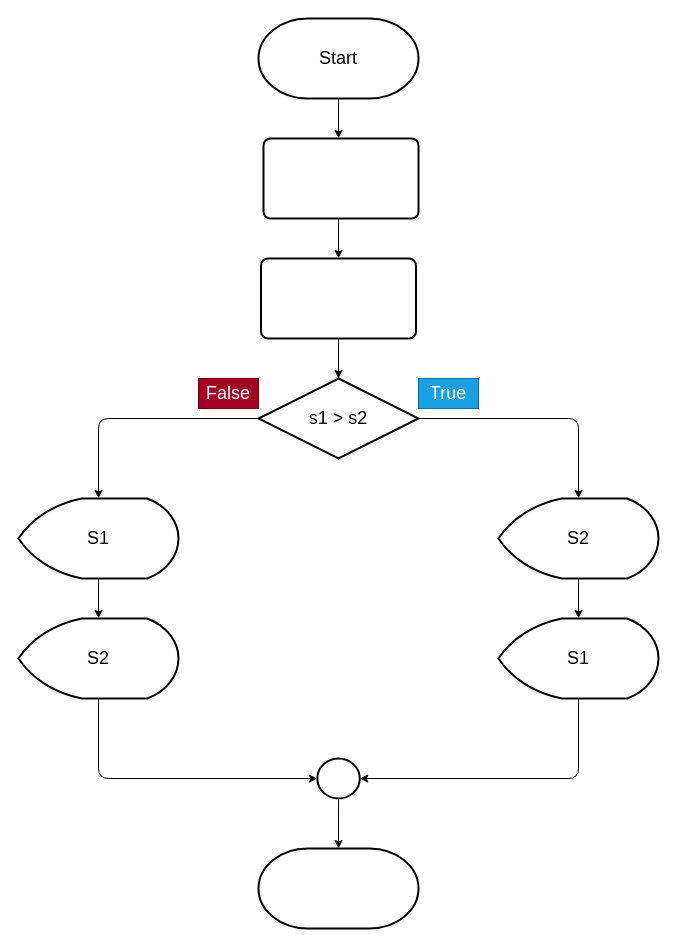
Some shapes in this 676 by 946 pixel diagram are drawn without their labels. Each missing label, with the centre of its shape:
"End" goes at (x=338, y=888).
"S1 = New York" goes at (x=340, y=178).
"S2 = Boston" goes at (x=338, y=298).
